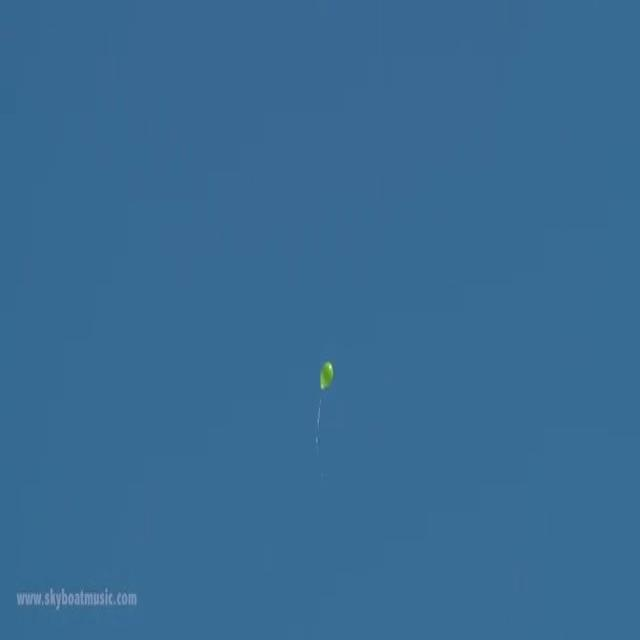balloon: (319, 361, 336, 395)
